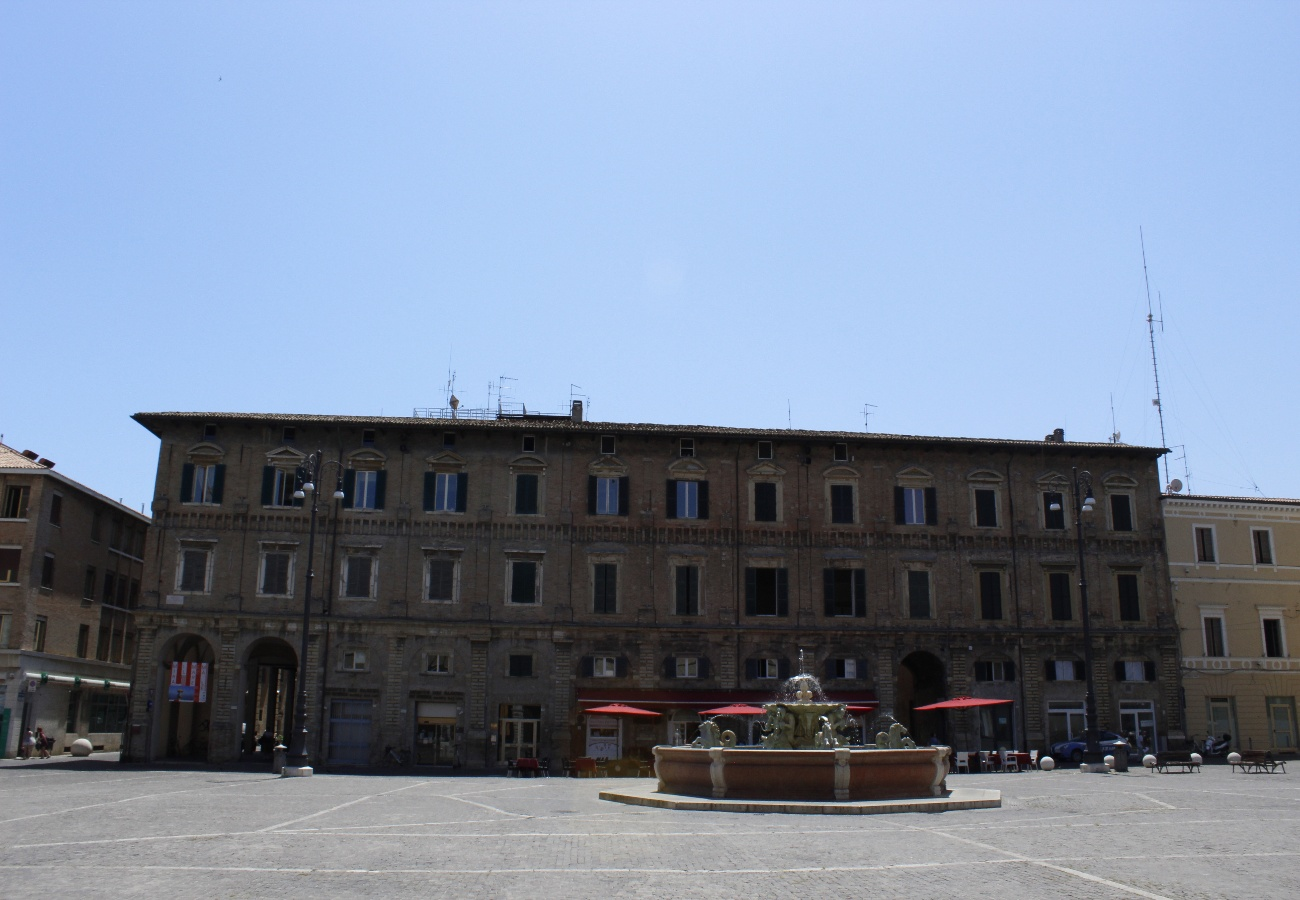Fontana Piazza del Popolo: (758, 699, 850, 751)
Palazzo Baviera: (131, 410, 1168, 772)
